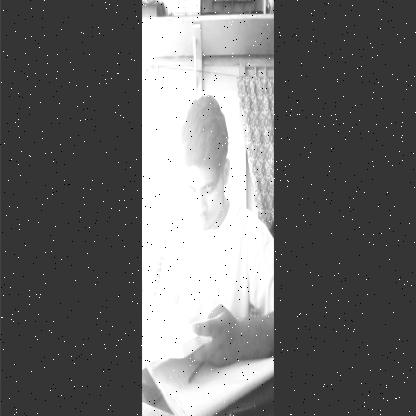Distracted: (171, 91, 236, 240)
